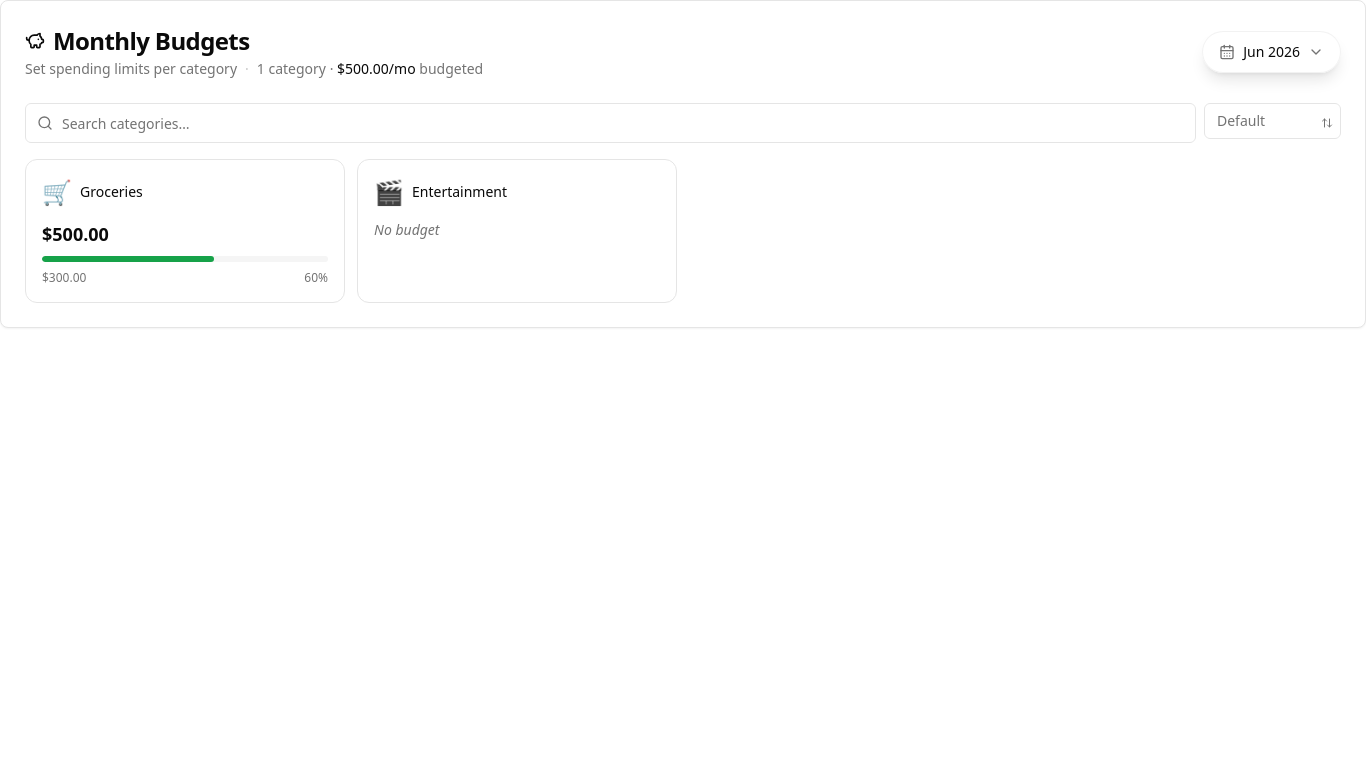
Test: BudgetsSection › opens modal when card is clicked
Click the text "Groceries".
click(111, 192)  # box [80,182,143,201]
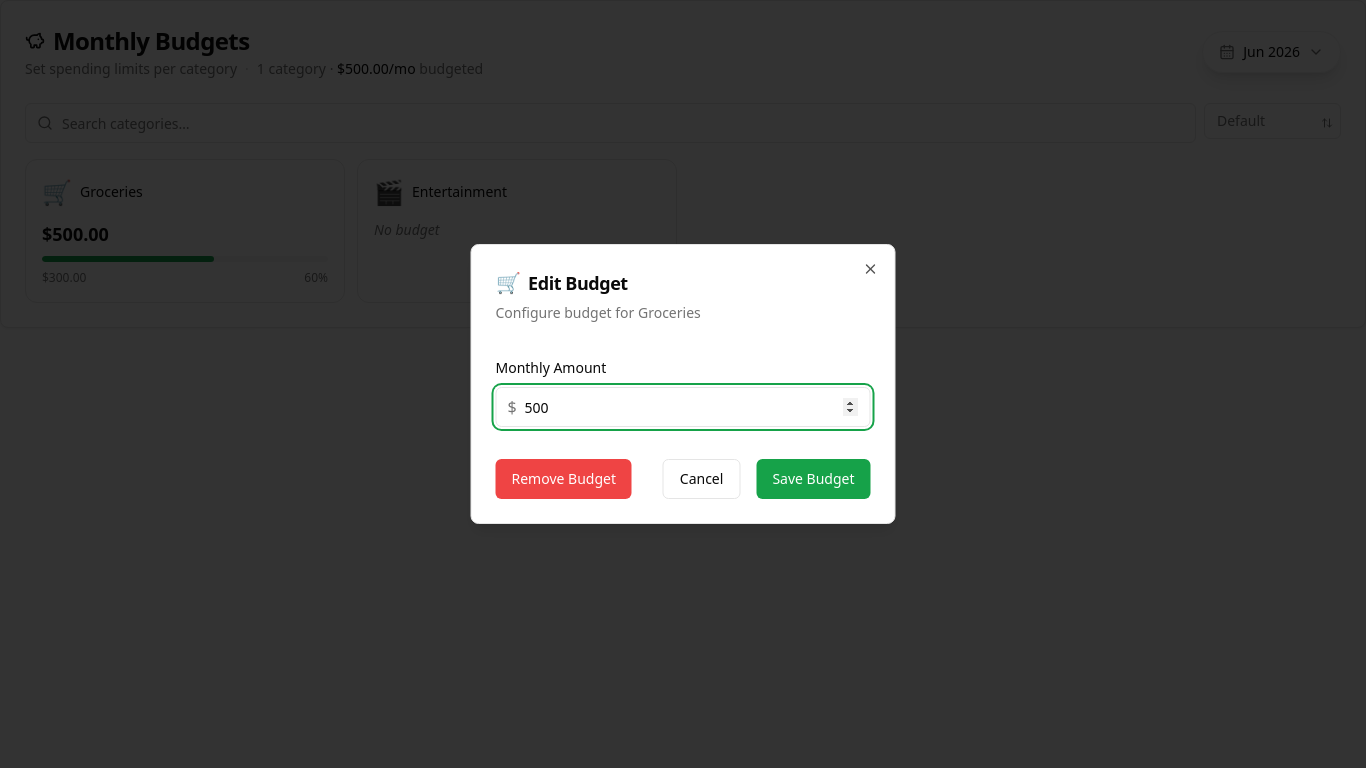
Check: the heading "🛒 Edit Budget" is shown, box [496,269,628,296]
Check: the button "Save Budget" is shown, box [756,459,870,499]
Check: the button "Remove Budget" is shown, box [496,459,632,499]
